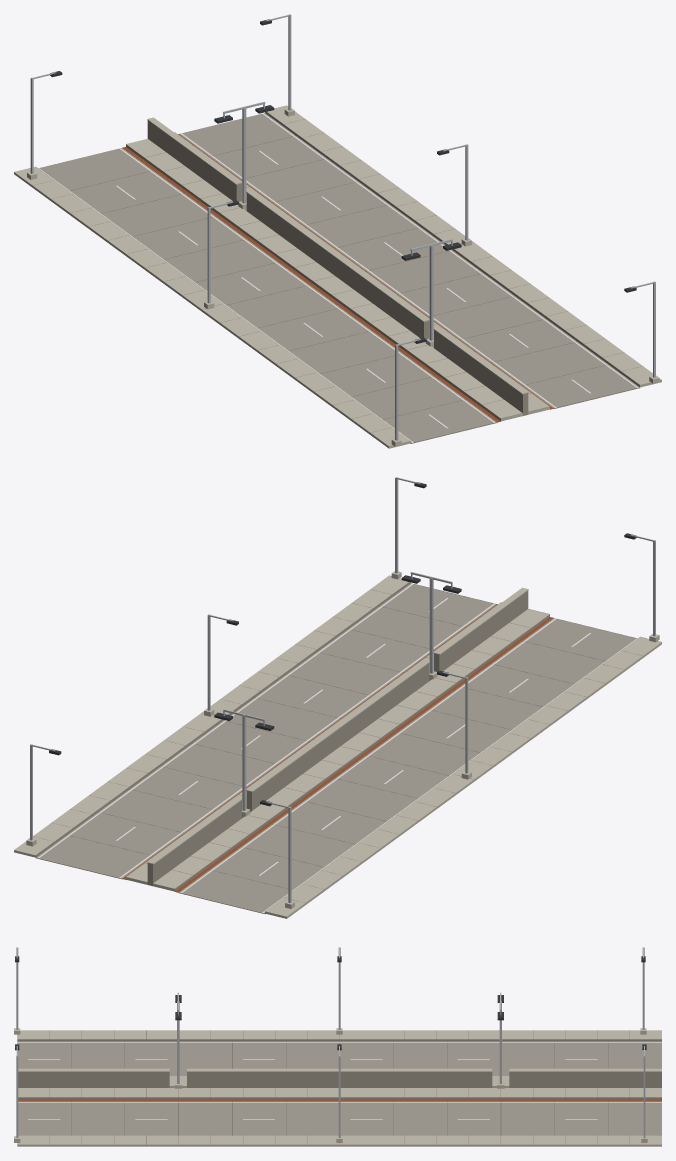
Rendered from highway.glb.
3 views of the same model, one above another, from view 1: azimuth 30°, elevation 25°; view 2: azimuth 150°, elevation 25°; view 3: azimuth 270°, elevation 25° (orthographic). The views are drawn at different scales.
Visible parts, largest first — view 1: Road_Surface, Median_Wall, Light_Centre_2, Light_Centre_1; view 2: Road_Surface, Median_Wall, Light_Centre_2, Light_Centre_1; view 3: Road_Surface, Median_Wall, Light_Centre_1, Light_Centre_2, Light_Side_R_1, Light_Side_R_2, Light_Side_R_2.001.
Boxes of the visible parts, x1=… form: Road_Surface: x1=14, y1=105, x2=661, y2=448; Median_Wall: x1=147, y1=117, x2=528, y2=415; Light_Centre_2: x1=214, y1=101, x2=274, y2=210; Light_Centre_1: x1=401, y1=239, x2=461, y2=347; Road_Surface: x1=14, y1=575, x2=661, y2=918; Median_Wall: x1=147, y1=587, x2=528, y2=886; Light_Centre_2: x1=214, y1=709, x2=274, y2=817; Light_Centre_1: x1=401, y1=572, x2=461, y2=680; Road_Surface: x1=17, y1=1030, x2=661, y2=1146; Median_Wall: x1=18, y1=1068, x2=661, y2=1087; Light_Centre_1: x1=174, y1=992, x2=182, y2=1088; Light_Centre_2: x1=497, y1=992, x2=504, y2=1088; Light_Side_R_1: x1=14, y1=1044, x2=20, y2=1142; Light_Side_R_2: x1=336, y1=1044, x2=342, y2=1142; Light_Side_R_2.001: x1=641, y1=1044, x2=647, y2=1142.
Bounding box in the file's own units: 25.2 × 9.1 × 60.3.
